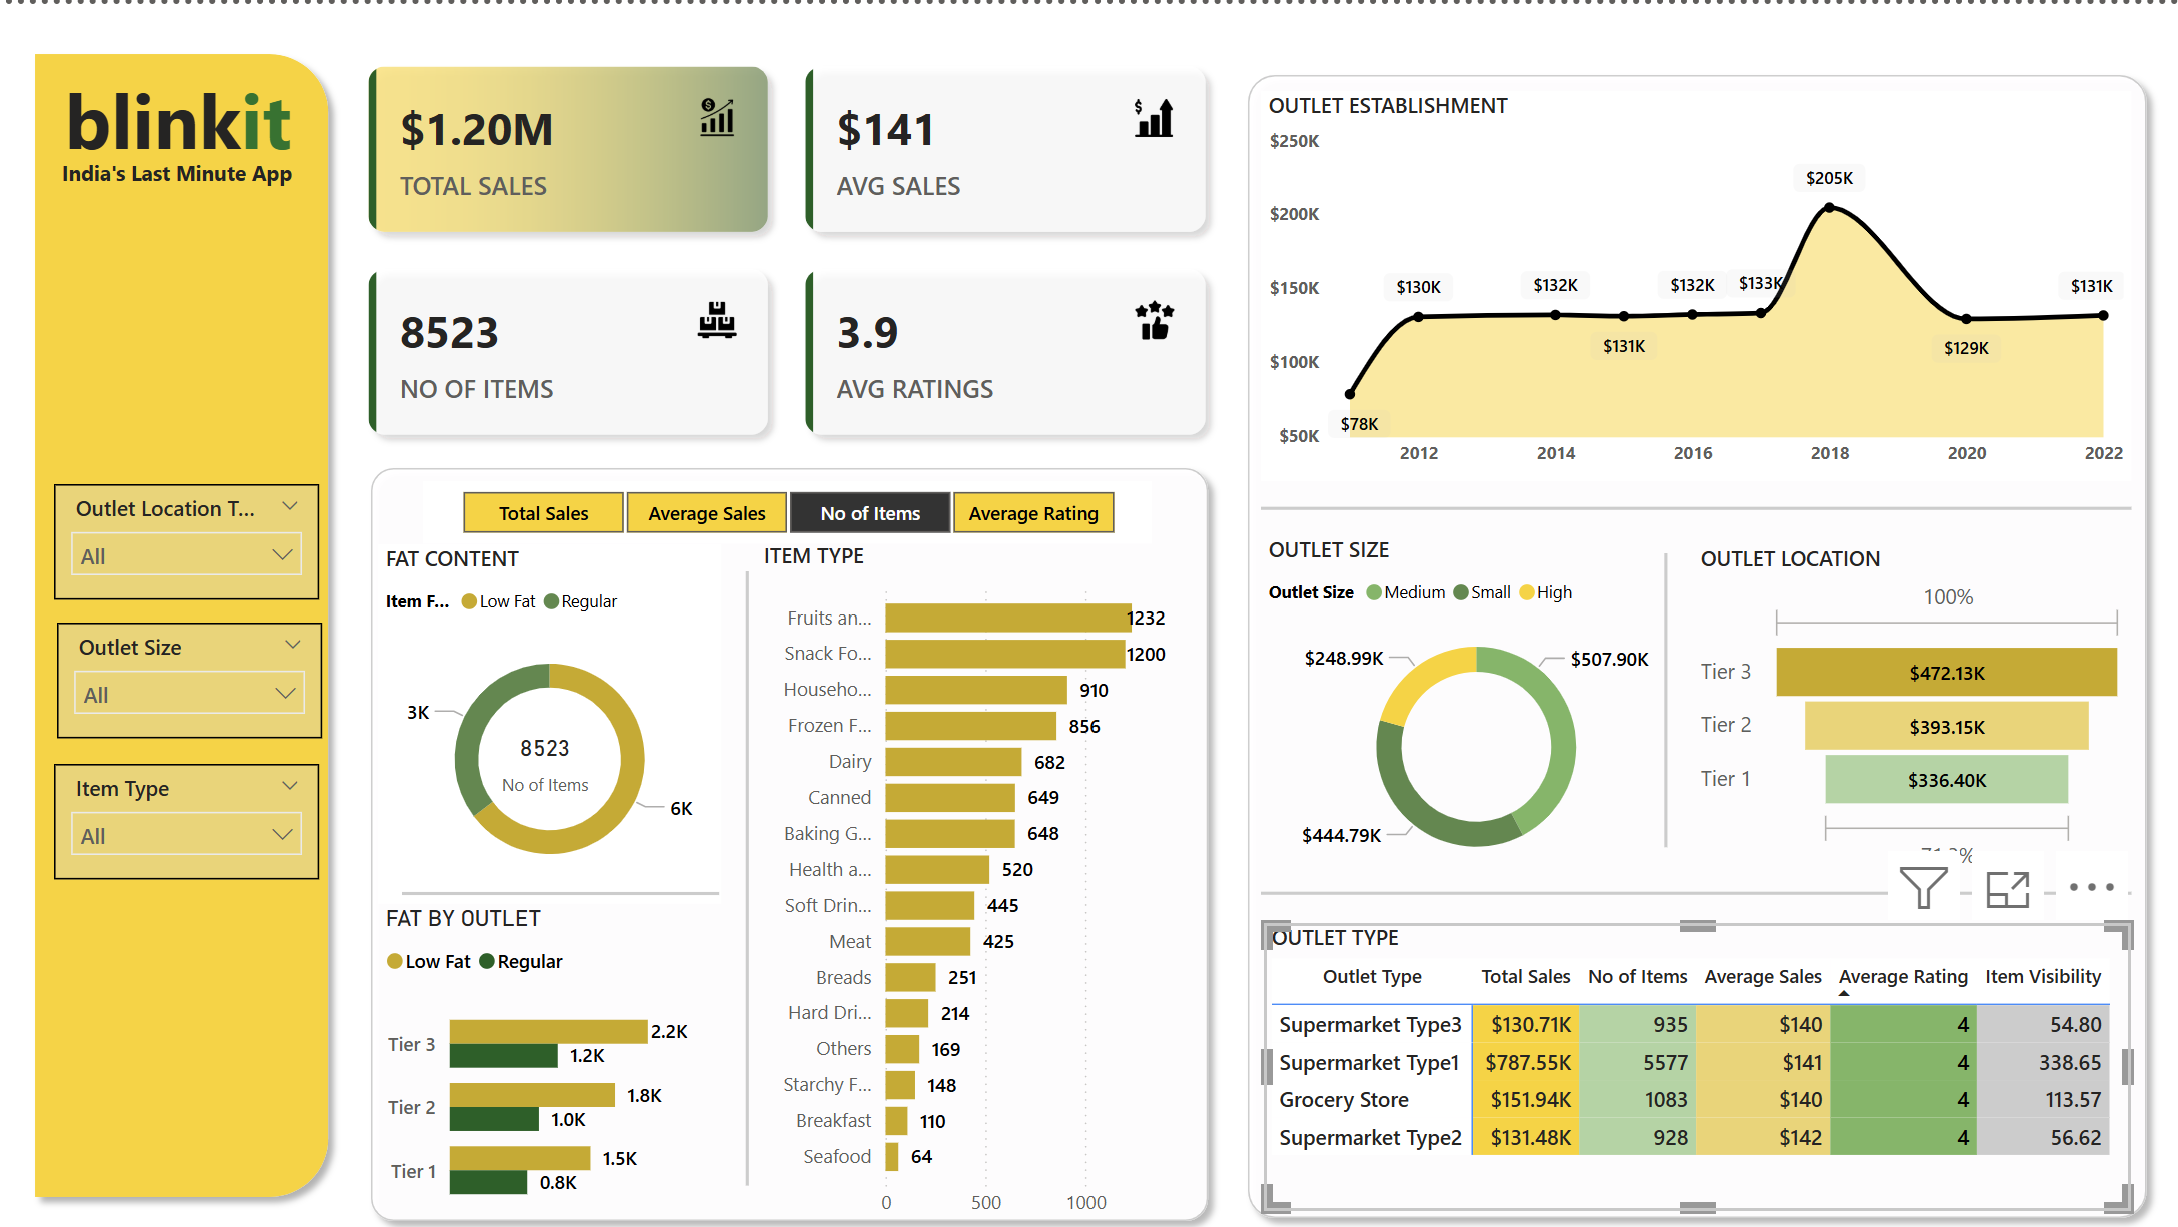

Layout of this report page (visuals, bound fields, positions):
{"tool":"powerbi","page":{"name":"Page 1","canvas":[1400,800],"ordinal":0},"visuals":[{"type":"shape","box":[14,24,206,750],"z":0},{"type":"textbox","box":[36,36,164,78],"z":1000},{"type":"textbox","box":[34,94,172,36],"z":2000},{"type":"cardVisual","fields":{"Data":["Measures (2).Total Sales","Measures (2).Average Sales","Measures (2).No of Items","Measures (2).Average Rating"]},"box":[220,24,570,270],"z":3000},{"type":"shape","box":[228,288,554,500],"z":4000},{"type":"donutChart","title":"FAT CONTENT","fields":{"Y":["Measures (2).No of Items"],"Category":["BlinkIT Grocery Data.Item Fat Content"]},"box":[241.7,346.7,220,230],"z":5000},{"type":"slicer","fields":{"Values":["Metrics .Metrics "]},"box":[271.7,306.7,466.7,40],"z":6000},{"type":"card","fields":{"Values":["Measures (2).No of Items"]},"box":[283.3,441.7,133.3,85],"z":7000},{"type":"clusteredBarChart","title":"FAT BY OUTLET","fields":{"Y":["Measures (2).No of Items"],"Category":["BlinkIT Grocery Data.Outlet Location Type"],"Series":["BlinkIT Grocery Data.Item Fat Content"]},"box":[241.7,576.7,203.3,208.3],"z":8000},{"type":"shape","box":[258.3,540,203.3,58.3],"z":9000},{"type":"shape","box":[461.7,363.3,35,393.3],"z":10000},{"type":"barChart","title":"ITEM TYPE","fields":{"Y":["Measures (2).No of Items"],"Category":["BlinkIT Grocery Data.Item Type"]},"box":[485,345,280,441.7],"z":11000},{"type":"shape","box":[790,36,594,750],"z":12000},{"type":"lineChart","title":"OUTLET ESTABLISHMENT","fields":{"Y":["Measures (2).Total Sales"],"Category":["BlinkIT Grocery Data.Outlet Establishment Year"]},"box":[808,56,558,250],"z":13000},{"type":"donutChart","title":"OUTLET SIZE","fields":{"Y":["Measures (2).Total Sales"],"Category":["BlinkIT Grocery Data.Outlet Size"]},"box":[808,340,276,226],"z":14000},{"type":"shape","box":[808,294,558,58],"z":15000},{"type":"shape","box":[1044,352,46,188],"z":16000},{"type":"funnel","title":"OUTLET LOCATION","fields":{"Y":["Measures (2).Total Sales"],"Category":["BlinkIT Grocery Data.Outlet Location Type"]},"box":[1084,346,282,214],"z":17000},{"type":"shape","box":[808,540,558,58],"z":18000},{"type":"pivotTable","title":"OUTLET TYPE","fields":{"Rows":["BlinkIT Grocery Data.Outlet Type"],"Values":["Measures (2).Total Sales","Measures (2).No of Items","Measures (2).Average Sales","Measures (2).Average Rating","Sum(BlinkIT Grocery Data.Item Visibility)"]},"box":[810,588,556,186],"z":19000},{"type":"slicer","fields":{"Values":["BlinkIT Grocery Data.Outlet Location Type"]},"box":[34,308,170,74],"z":19001},{"type":"slicer","fields":{"Values":["BlinkIT Grocery Data.Outlet Size"]},"box":[36,396,170,74],"z":19002},{"type":"slicer","fields":{"Values":["BlinkIT Grocery Data.Item Type"]},"box":[34,486,170,74],"z":19003}]}

Visuals, with their boxes in screenshot pixels (x1, y1, x2, y2), scaled from the page's 1400x800 canvas onto the 2178x1227 screenshot:
shape: 22 37 342 1187
textbox: 56 55 311 175
textbox: 53 144 320 199
cardVisual - Measures (2).Total Sales x Measures (2).Average Sales: 342 37 1229 451
shape: 355 442 1217 1209
"FAT CONTENT" donutChart: 376 532 718 885
slicer - Metrics .Metrics : 423 470 1149 532
card - Measures (2).No of Items: 441 677 648 808
"FAT BY OUTLET" clusteredBarChart: 376 885 692 1204
shape: 402 828 718 918
shape: 718 557 773 1160
"ITEM TYPE" barChart: 755 529 1190 1207
shape: 1229 55 2153 1206
"OUTLET ESTABLISHMENT" lineChart: 1257 86 2125 469
"OUTLET SIZE" donutChart: 1257 521 1686 868
shape: 1257 451 2125 540
shape: 1624 540 1696 828
"OUTLET LOCATION" funnel: 1686 531 2125 859
shape: 1257 828 2125 917
"OUTLET TYPE" pivotTable: 1260 902 2125 1187
slicer - BlinkIT Grocery Data.Outlet Location Type: 53 472 317 586
slicer - BlinkIT Grocery Data.Outlet Size: 56 607 320 721
slicer - BlinkIT Grocery Data.Item Type: 53 745 317 859
